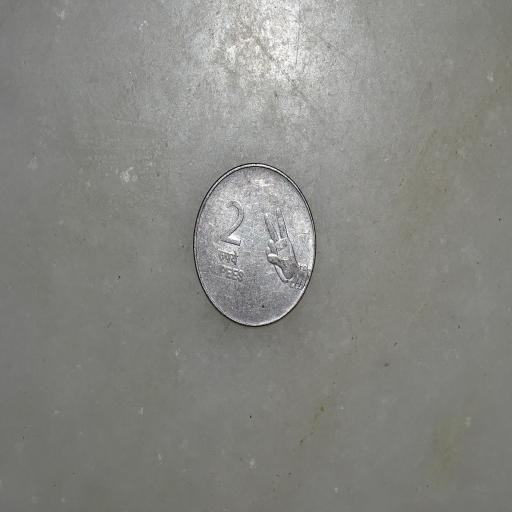rupee2: (192, 163, 318, 327)
